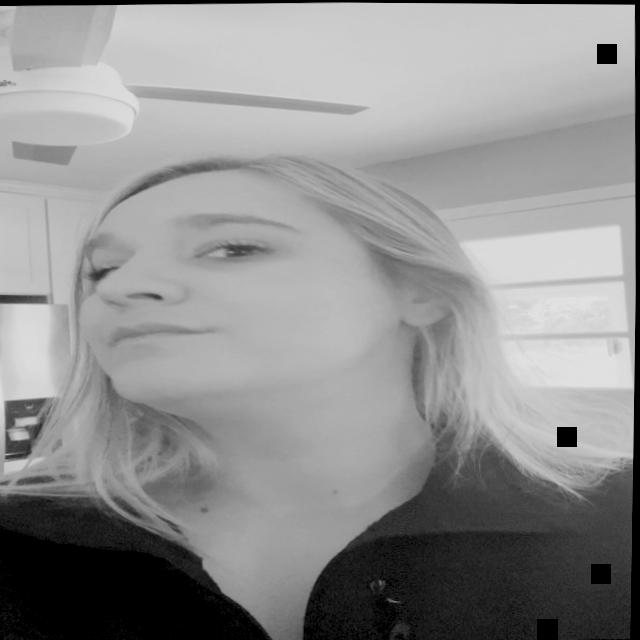NO-Mask: (72, 166, 424, 405)
